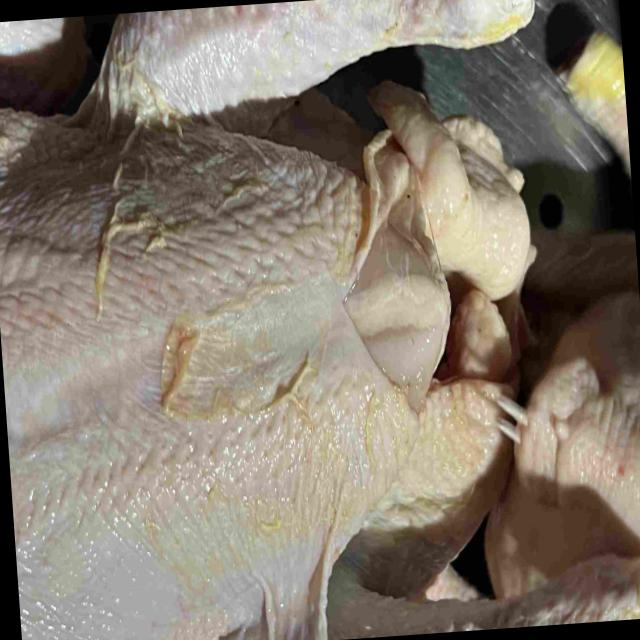breast: (0, 131, 442, 640)
leg: (88, 0, 535, 126), (218, 552, 640, 640)
